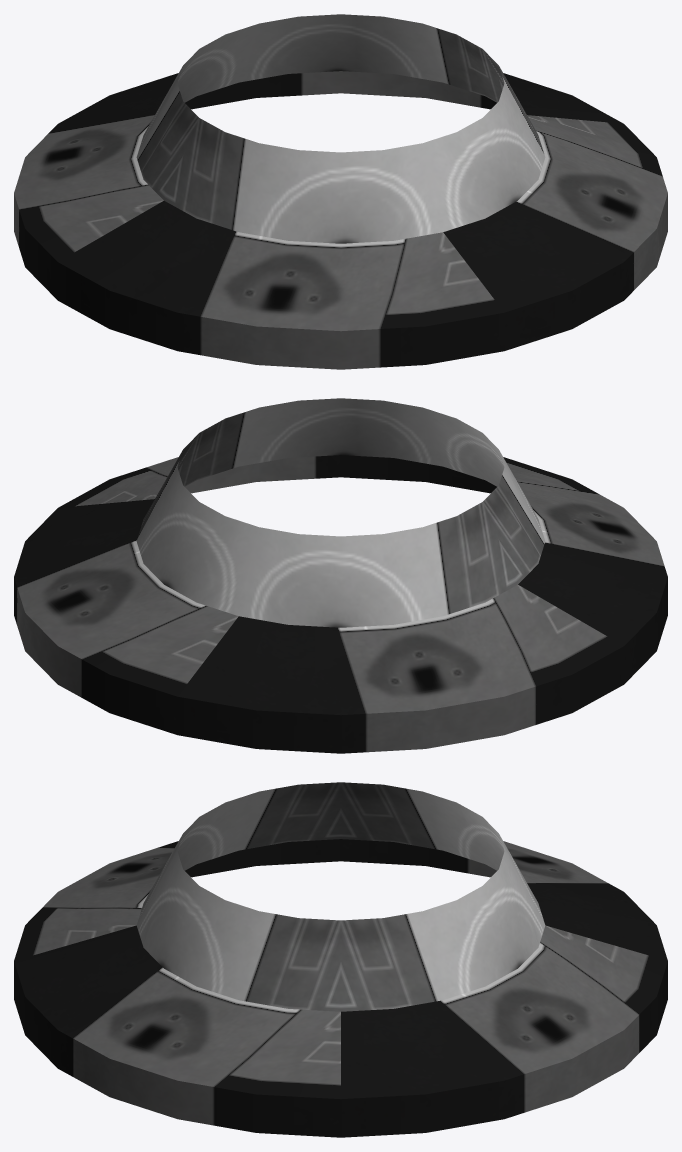
File: big_adapter_to_tiny_lip.fbx
The picture shows the model from 3 angles, top to bottom: view 1: azimuth 30°, elevation 25°; view 2: azimuth 150°, elevation 25°; view 3: azimuth 270°, elevation 25°; orthographic projection.
Visible parts, largest first — view 1: mesh; view 2: mesh; view 3: mesh.
Boxes of the visible parts, left/top/right/bottom form: mesh: left=14, top=14, right=667, bottom=369; mesh: left=14, top=398, right=667, bottom=753; mesh: left=14, top=782, right=667, bottom=1137.
Bounding box in the file's own units: 1.25 × 0.3125 × 1.25.
